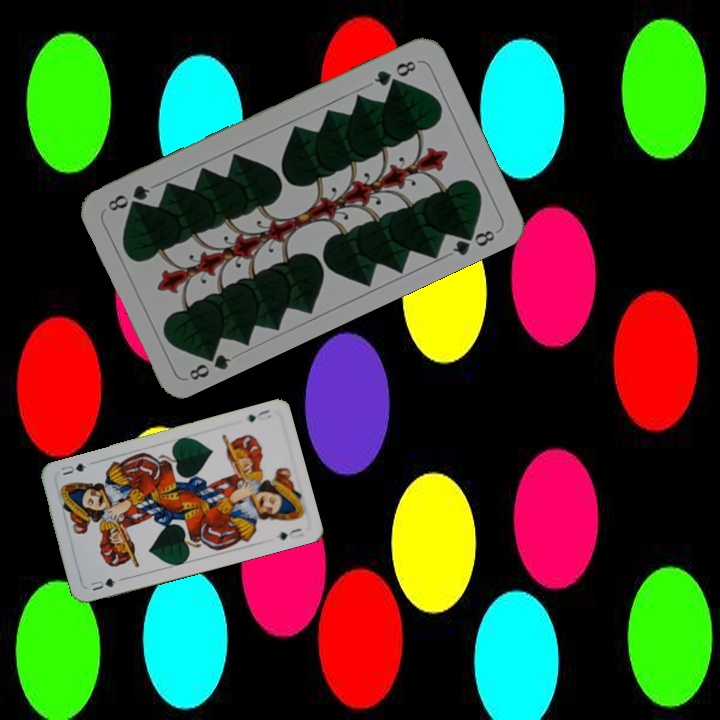G8: (185, 344, 234, 383), (369, 56, 421, 89)
GU: (86, 574, 119, 594), (243, 405, 273, 425)
